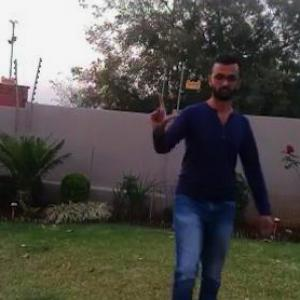land_hand: (146, 89, 184, 128)
